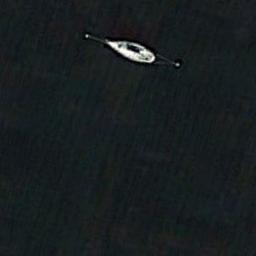boat: (102, 38, 155, 64)
